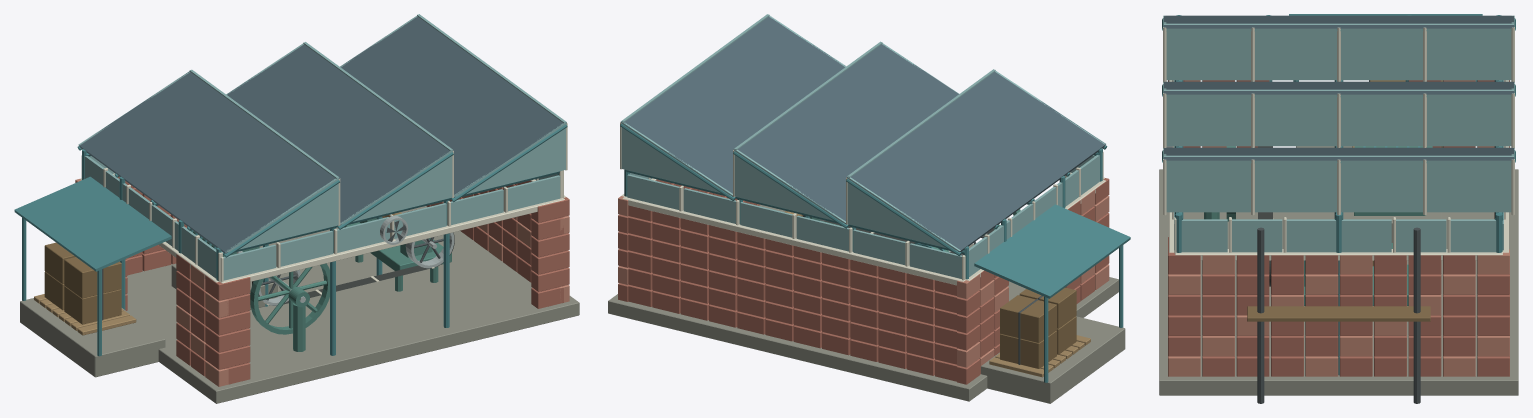
File: factory.glb
3 renders of one model, left to right at view 1: azimuth 30°, elevation 25°; view 2: azimuth 150°, elevation 25°; view 3: azimuth 270°, elevation 25°, orthographic. The views are drawn at different scales.
Visible parts, largest first — view 1: Foundation_mesh, LoadingDock_mesh, ClerestoryWindows_mesh, LoadingCanopy.001_mesh, SawtoothRoof.001_mesh, SawtoothRoof.003_mesh, SawtoothRoof.021_mesh, SawtoothRoof.013_mesh, SawtoothRoof.005_mesh, SawtoothRoof.023_mesh, SawtoothRoof.015_mesh, SawtoothRoof.007_mesh (+28 smaller); view 2: ClerestoryWindows.001_mesh, LoadingDock_mesh, Foundation_mesh, LoadingCanopy.001_mesh, FactoryMasonryCourse.004_mesh, FactoryMasonryCourse_mesh, FactoryMasonryCourse.001_mesh, FactoryMasonryCourse.003_mesh, FactoryMasonryCourse.002_mesh, SawtoothRoof.001_mesh, SawtoothRoof.003_mesh, SawtoothRoof.013_mesh (+22 smaller); view 3: Northlight.001_mesh, Northlight.003_mesh, Northlight.005_mesh, Foundation_mesh, SideWindows.001_mesh, FactoryMasonryCourse.004_mesh, FactoryMasonryCourse.001_mesh, FactoryMasonryCourse_mesh, FactoryMasonryCourse.005_mesh, FactoryMasonryCourse.002_mesh, Scaffold_mesh, FactoryMasonryCourse.003_mesh (+18 smaller).
Part boxes in pixels (x1,y1,x2,y2): Foundation_mesh: (127, 206, 579, 403); LoadingDock_mesh: (20, 242, 165, 377); ClerestoryWindows_mesh: (220, 175, 564, 283); LoadingCanopy.001_mesh: (14, 176, 171, 271); SawtoothRoof.001_mesh: (79, 126, 253, 253); SawtoothRoof.003_mesh: (107, 107, 281, 233); SawtoothRoof.021_mesh: (363, 34, 537, 159); SawtoothRoof.013_mesh: (249, 61, 423, 186); SawtoothRoof.005_mesh: (135, 89, 309, 213); SawtoothRoof.023_mesh: (392, 16, 566, 140); SawtoothRoof.015_mesh: (278, 44, 453, 167); SawtoothRoof.007_mesh: (165, 71, 339, 195); ClerestoryWindows.001_mesh: (622, 174, 965, 285); LoadingDock_mesh: (981, 287, 1125, 403); Foundation_mesh: (608, 205, 1118, 401); LoadingCanopy.001_mesh: (974, 204, 1130, 298); FactoryMasonryCourse.004_mesh: (618, 183, 1109, 316); FactoryMasonryCourse_mesh: (618, 200, 1109, 384); FactoryMasonryCourse.001_mesh: (618, 196, 1109, 367); FactoryMasonryCourse.003_mesh: (618, 187, 1109, 333); FactoryMasonryCourse.002_mesh: (618, 192, 999, 350); SawtoothRoof.001_mesh: (932, 125, 1105, 251); SawtoothRoof.003_mesh: (904, 107, 1077, 232); SawtoothRoof.013_mesh: (763, 61, 936, 185); Northlight.001_mesh: (1164, 23, 1513, 80); Northlight.003_mesh: (1164, 89, 1513, 146); Northlight.005_mesh: (1164, 155, 1513, 212); Foundation_mesh: (1159, 169, 1518, 395); SideWindows.001_mesh: (1174, 217, 1502, 260); FactoryMasonryCourse.004_mesh: (1168, 80, 1509, 294); FactoryMasonryCourse.001_mesh: (1168, 146, 1509, 356); FactoryMasonryCourse_mesh: (1168, 356, 1509, 376); FactoryMasonryCourse.005_mesh: (1168, 80, 1509, 274); FactoryMasonryCourse.002_mesh: (1168, 146, 1509, 335); Scaffold_mesh: (1247, 227, 1430, 403); FactoryMasonryCourse.003_mesh: (1168, 294, 1509, 315).
Bounding box in the file's own units: 7.94 × 3.28 × 4.6.
